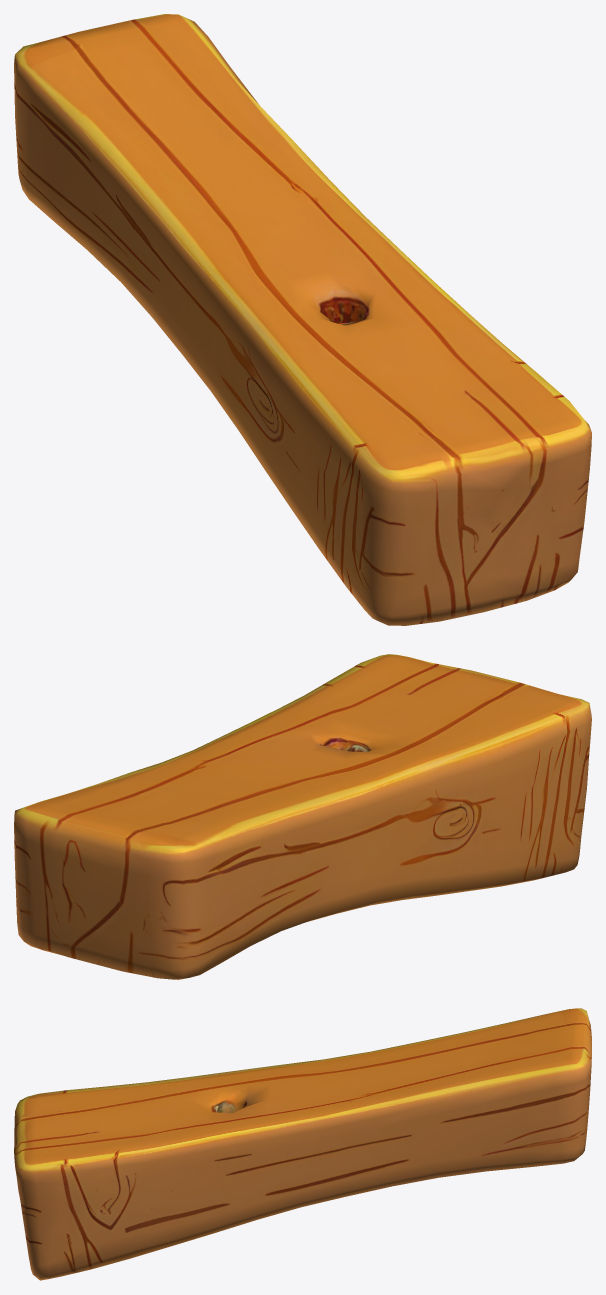
File: Plank.fbx
The picture shows the model from 3 angles, top to bottom: view 1: azimuth 30°, elevation 25°; view 2: azimuth 150°, elevation 25°; view 3: azimuth 270°, elevation 25°; orthographic projection. The views are drawn at different scales.
Parts seen in each view (by area): view 1: tripo_node_98179e8b; view 2: tripo_node_98179e8b; view 3: tripo_node_98179e8b.
Boxes of the visible parts, x1,y1,x2,y2 form: tripo_node_98179e8b: (14,14,591,625); tripo_node_98179e8b: (14,654,591,979); tripo_node_98179e8b: (14,1008,591,1280).
Bounding box in the file's own units: 31.04 × 41.32 × 99.73.
Materials: 1 (1 with a texture image).
